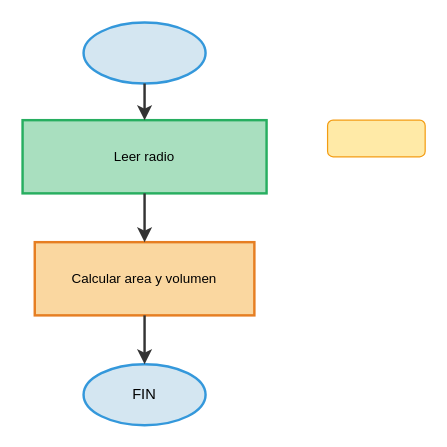
This 447x447 diagram has some shape labels left out. The shapes that lost their labels are listed below. From the top down, each one's centre as x and y in pixels, then its label:
the point at 144,52: INICIO
the point at 375,138: O(1)
